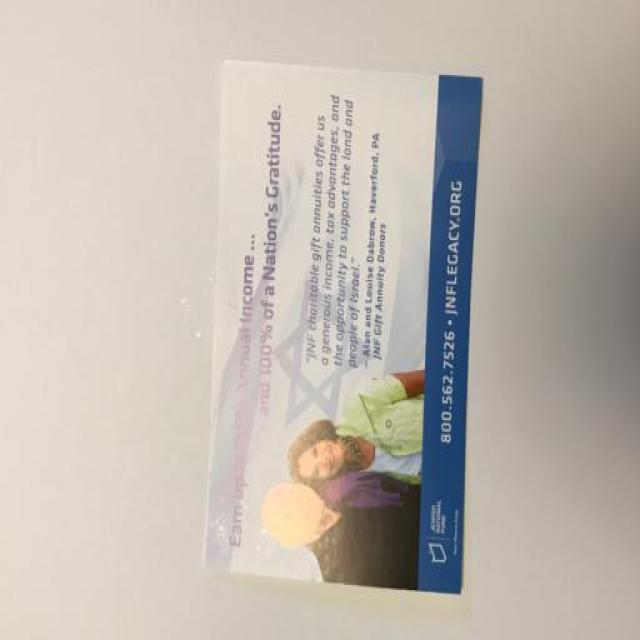paper: (175, 39, 514, 630)
